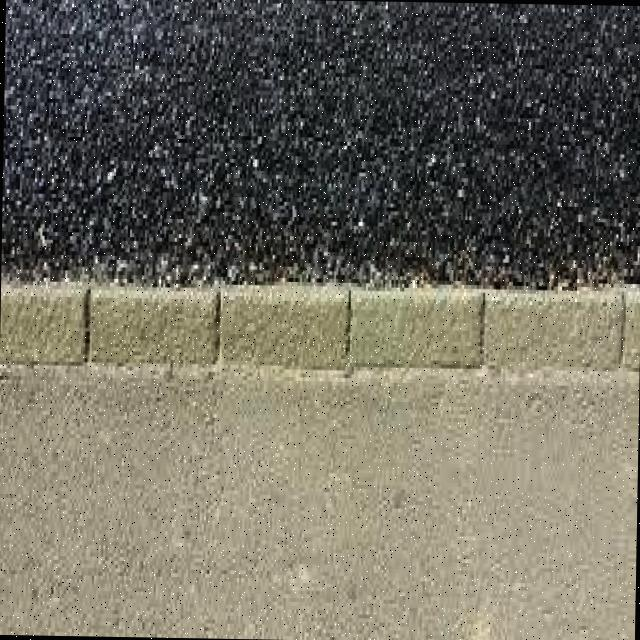curb: (488, 280, 629, 382), (344, 281, 487, 376), (213, 284, 354, 374), (86, 281, 219, 365), (1, 281, 98, 368)
